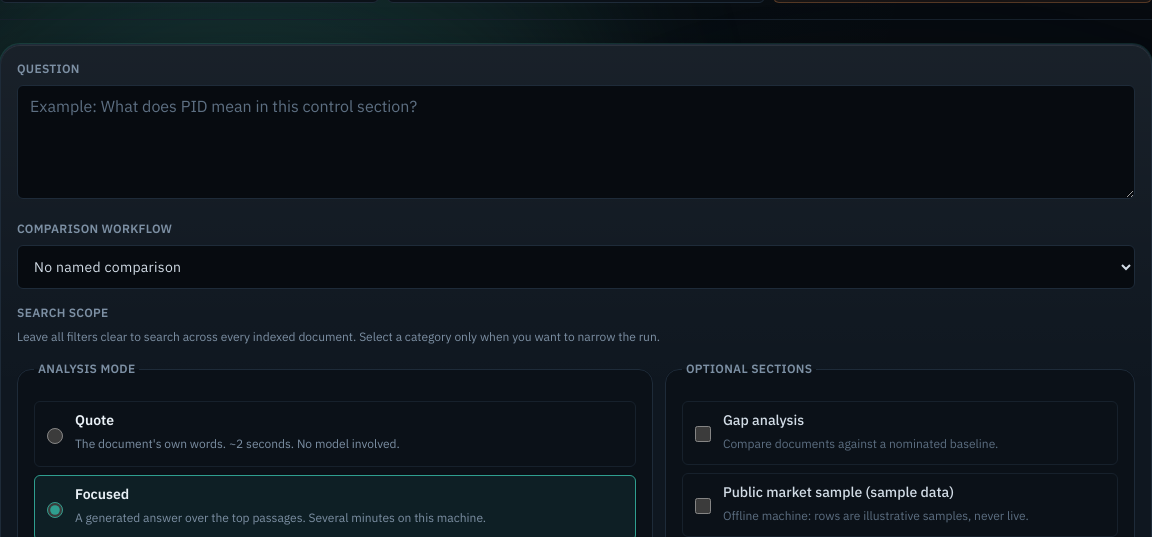
Test case: AnalysisModeScreen: nothing survives a sign-out › keeps nothing from a run whose own response was the 401
The image size is (1152, 537).
Step 1. Type "what is the pressure floor" into the text box labelled "Question" → (576, 142), box [17,85,1135,199]
(page scrolled)
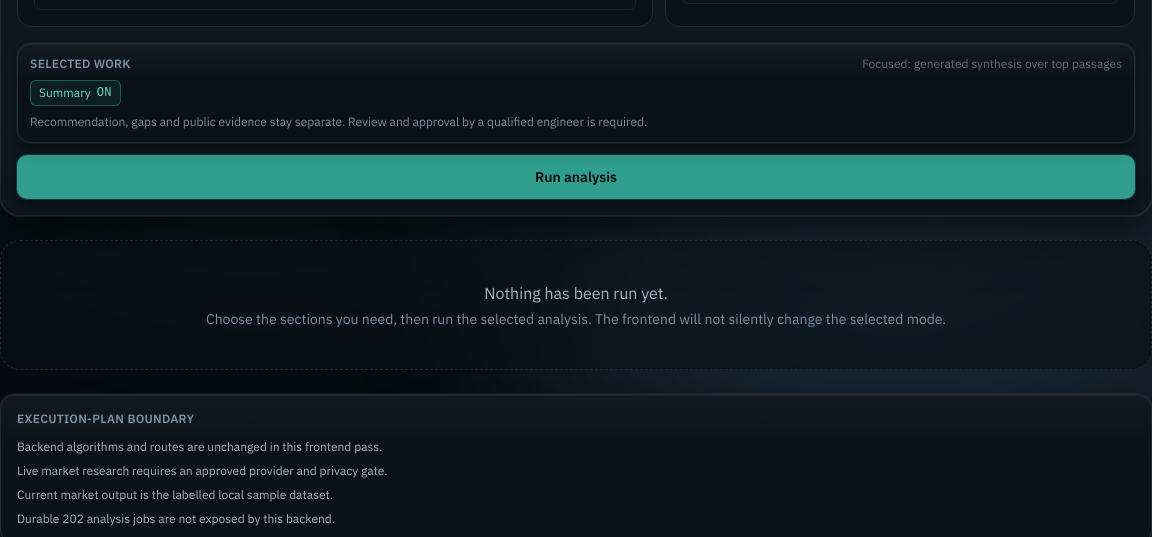
Step 2. Click the button "Run analysis" → (576, 177), box [17,155,1135,199]
(page scrolled)
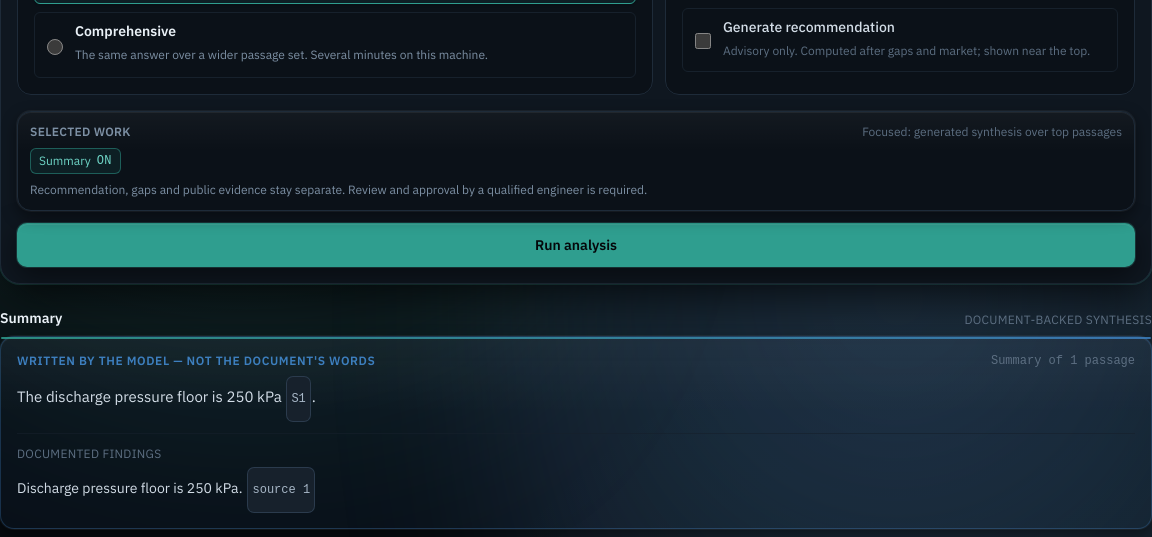
expect the text "Discharge pressure floor is 250 kPa." is shown: met, box [17,479,242,497]
Step 3. Click the button "Run analysis" → (576, 245), box [17,223,1135,267]
(page scrolled)
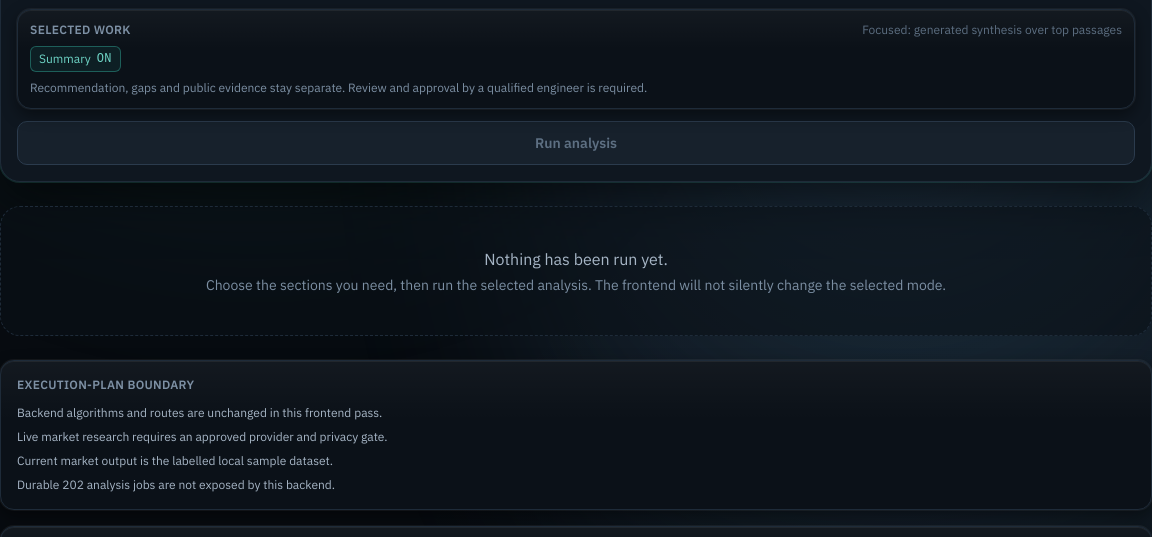
expect the text "discharge pressure floor is 250 kPa" is gone: met
expect the text "Nothing has been run yet." is shown: met, box [484,249,668,269]
